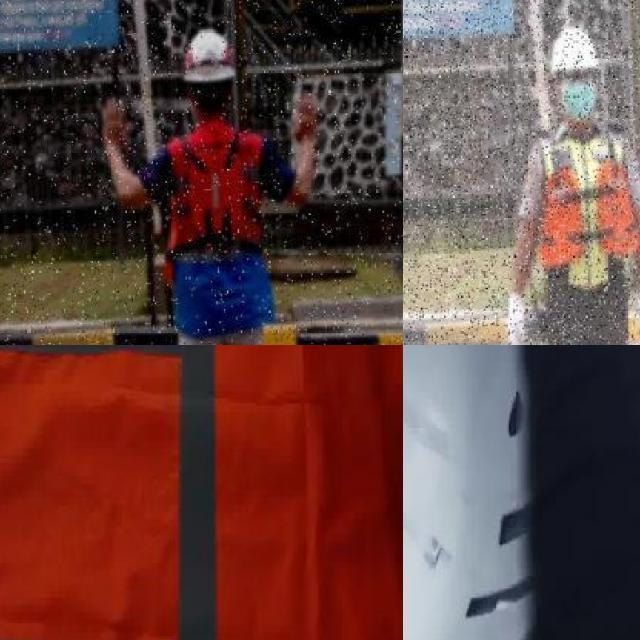apron: (505, 293, 528, 345), (634, 280, 640, 343)
